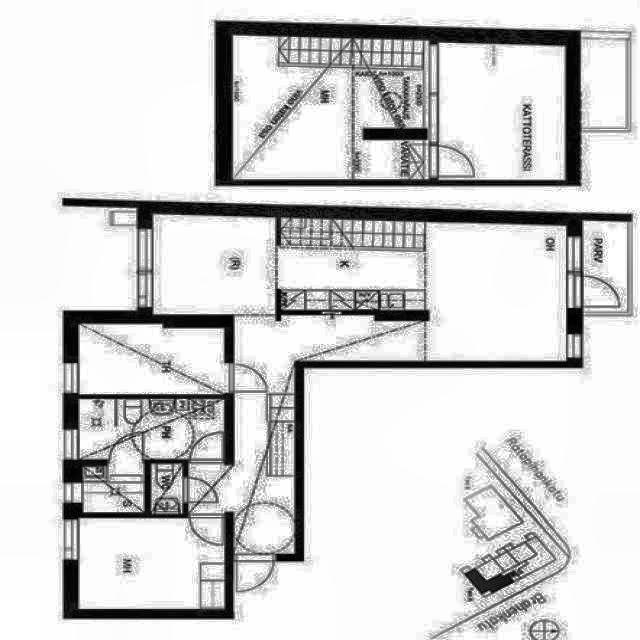room: (233, 36, 429, 179), (440, 43, 565, 179), (79, 518, 223, 609), (79, 324, 224, 394), (79, 398, 224, 460), (584, 222, 627, 312), (84, 467, 144, 512), (152, 464, 183, 513)
